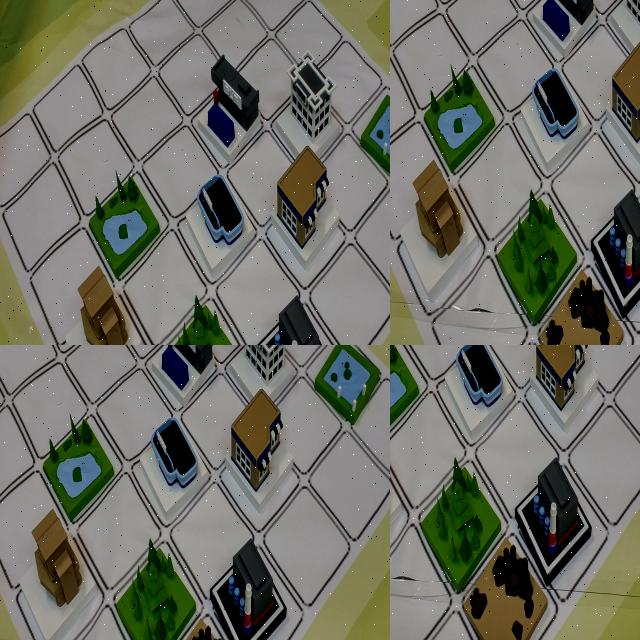bus_stop: (172, 432, 233, 538), (223, 130, 287, 231), (558, 220, 615, 324), (452, 345, 524, 401)
factory: (516, 454, 597, 572), (390, 51, 451, 165), (102, 106, 169, 207), (135, 608, 200, 640)
fish_pool: (331, 97, 390, 196), (266, 345, 318, 397)
forest: (420, 455, 502, 588), (42, 440, 104, 542), (264, 12, 320, 103), (390, 121, 423, 217)
gogo_shop: (441, 345, 517, 451), (274, 193, 334, 296), (498, 228, 549, 336), (268, 392, 321, 490)
research_build: (264, 85, 321, 182), (537, 345, 605, 401), (228, 345, 287, 394)
restaurant: (521, 345, 604, 438), (182, 191, 248, 295), (239, 538, 301, 640)
silicate_rock: (472, 542, 538, 640), (152, 68, 219, 152), (107, 345, 163, 432)
volunteer_center: (224, 48, 278, 150), (390, 422, 429, 555), (174, 345, 228, 426)
wet_land: (148, 148, 214, 254), (9, 392, 72, 492), (427, 0, 486, 87), (390, 345, 424, 436)
